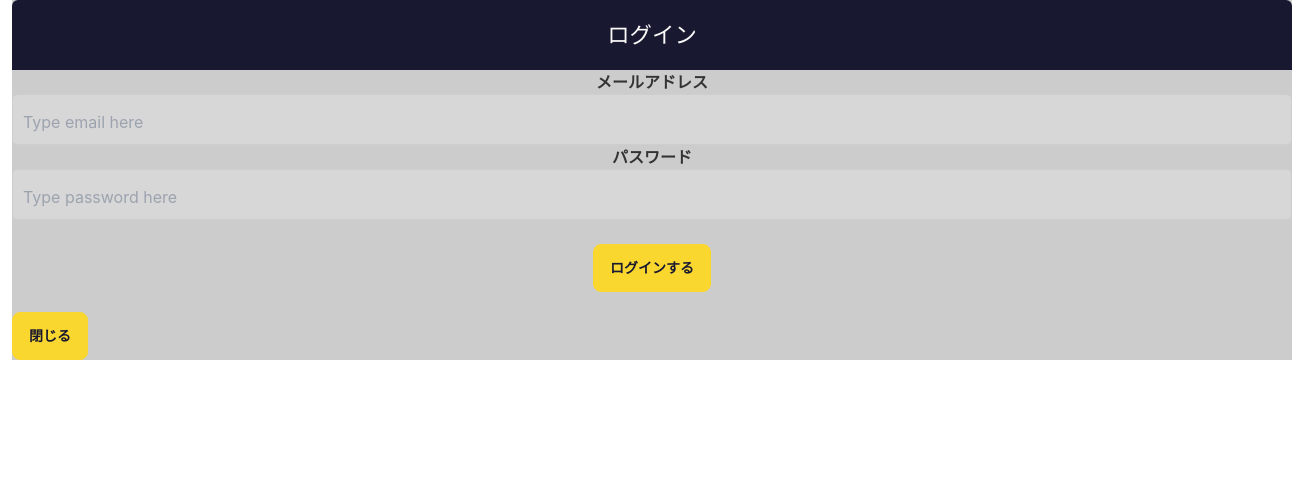
Scenario: SignIn password › パスワードが半角英数字以外の場合、エラーメッセージを表示
Type "ああああああああ" into the password field with placeholder "Type password here" at (652, 194), box [12,169,1292,220]
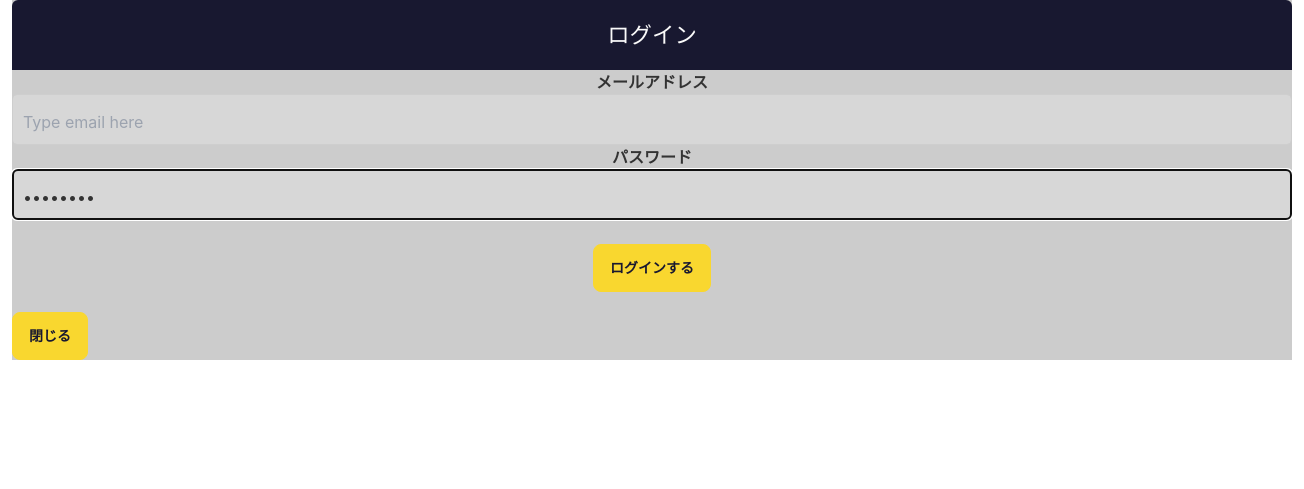
Click the button "ログインする" at (652, 268), box [593,244,711,292]
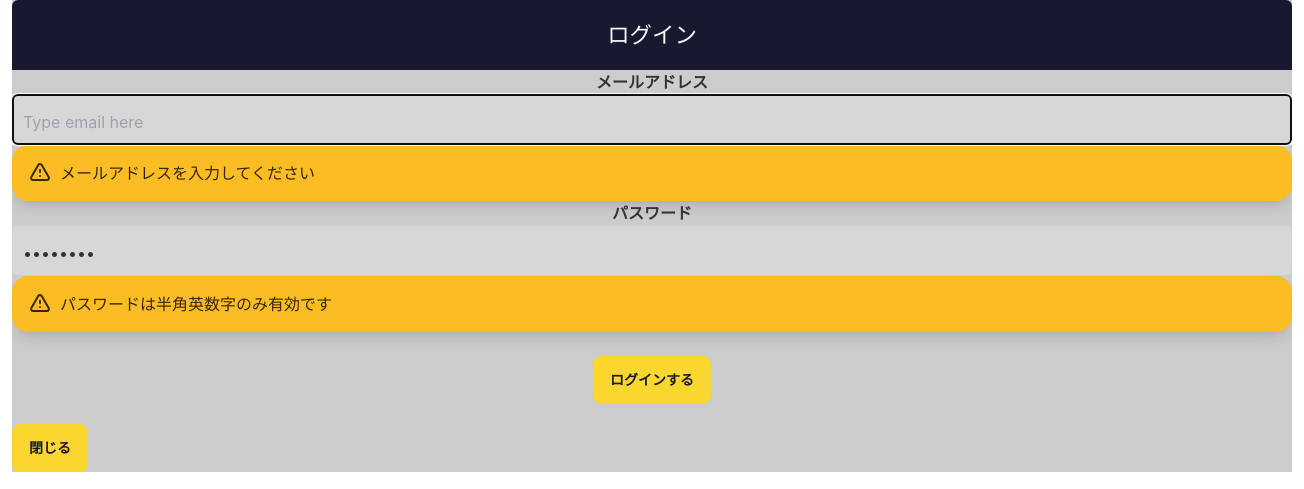
Expected: the text "パスワードは半角英数字のみ有効です" is shown, [60,292,332,316]
